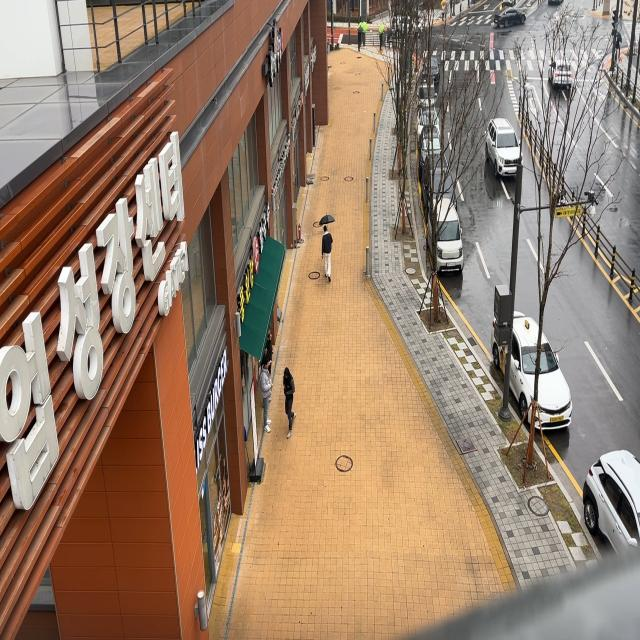Car: (493, 299, 582, 439), (569, 429, 640, 570), (422, 192, 472, 282), (482, 111, 524, 186), (421, 151, 461, 217), (416, 126, 451, 170), (546, 46, 576, 91), (413, 104, 447, 141), (491, 7, 537, 31), (390, 11, 427, 39), (422, 49, 445, 90), (416, 82, 440, 109)
